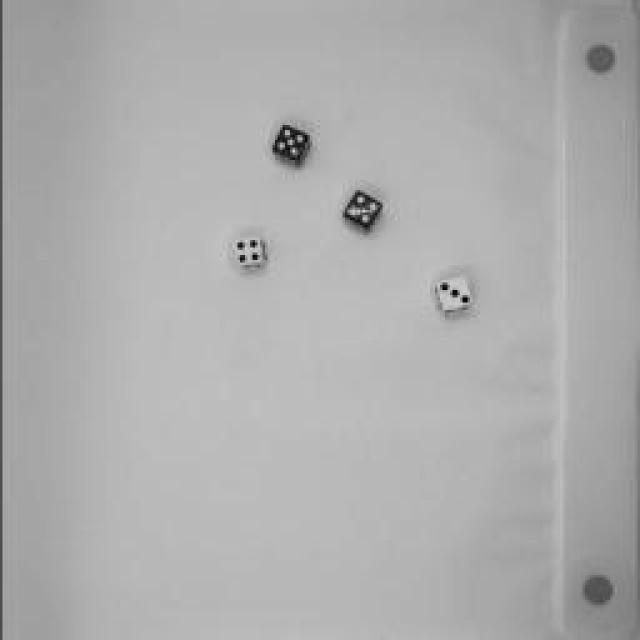dice_3: (429, 268, 476, 322)
dice_4: (338, 187, 388, 235), (224, 231, 271, 274)
dice_5: (264, 118, 316, 172)
